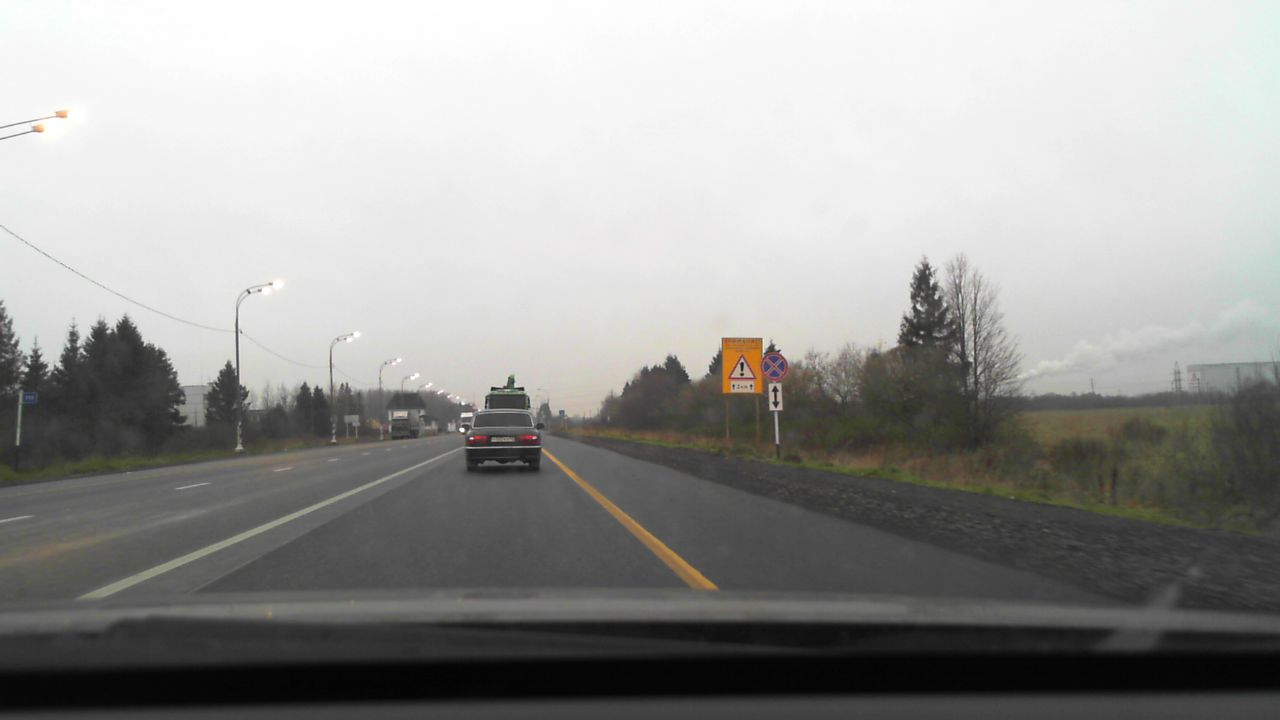No Parking: (761, 352, 788, 380)
